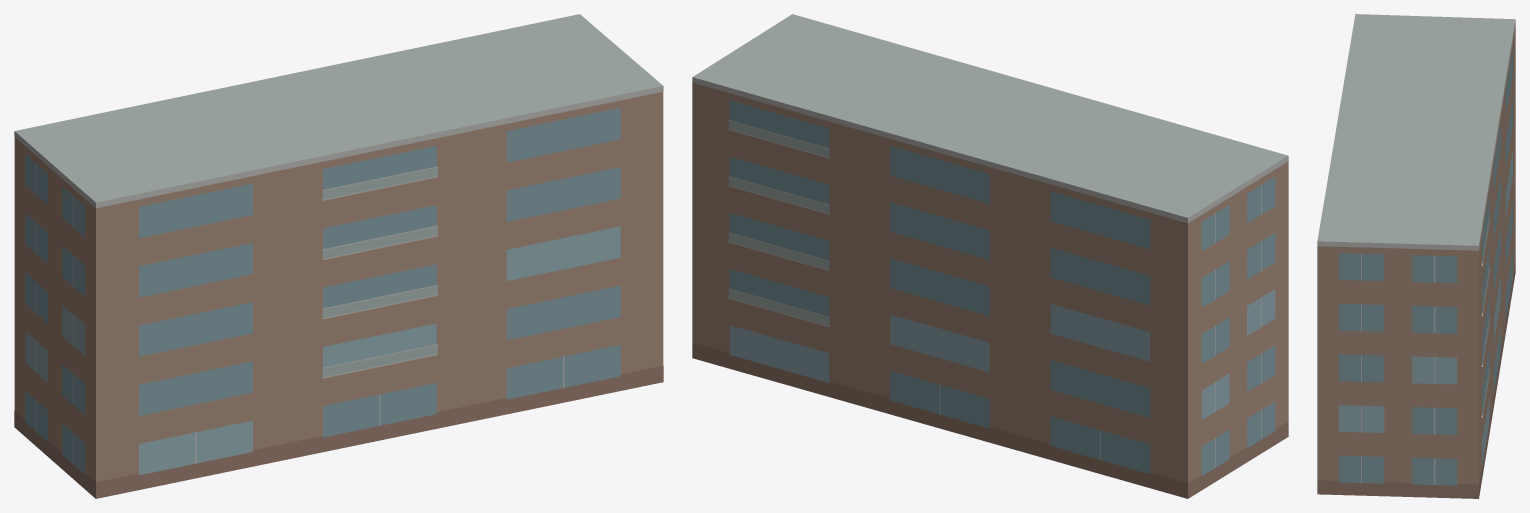
Rendered from survey-upis-32545741.glb.
3 renders of one model, left to right at view 1: azimuth 30°, elevation 25°; view 2: azimuth 150°, elevation 25°; view 3: azimuth 270°, elevation 25°, orthographic. The views are drawn at different scales.
Parts seen in each view (by area): view 1: survey-upis-32545741.tmp; view 2: survey-upis-32545741.tmp; view 3: survey-upis-32545741.tmp.
Boxes of the visible parts, x1,y1,x2,y2 form: survey-upis-32545741.tmp: [14, 14, 663, 498]; survey-upis-32545741.tmp: [692, 14, 1288, 498]; survey-upis-32545741.tmp: [1317, 14, 1515, 498].
Bounding box in the file's own units: 24.97 × 12.7 × 9.03.
